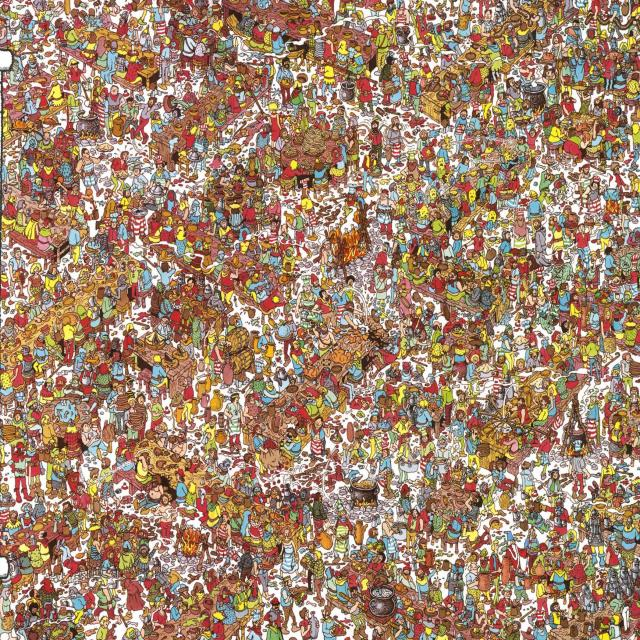waldo: (269, 216, 278, 231)
